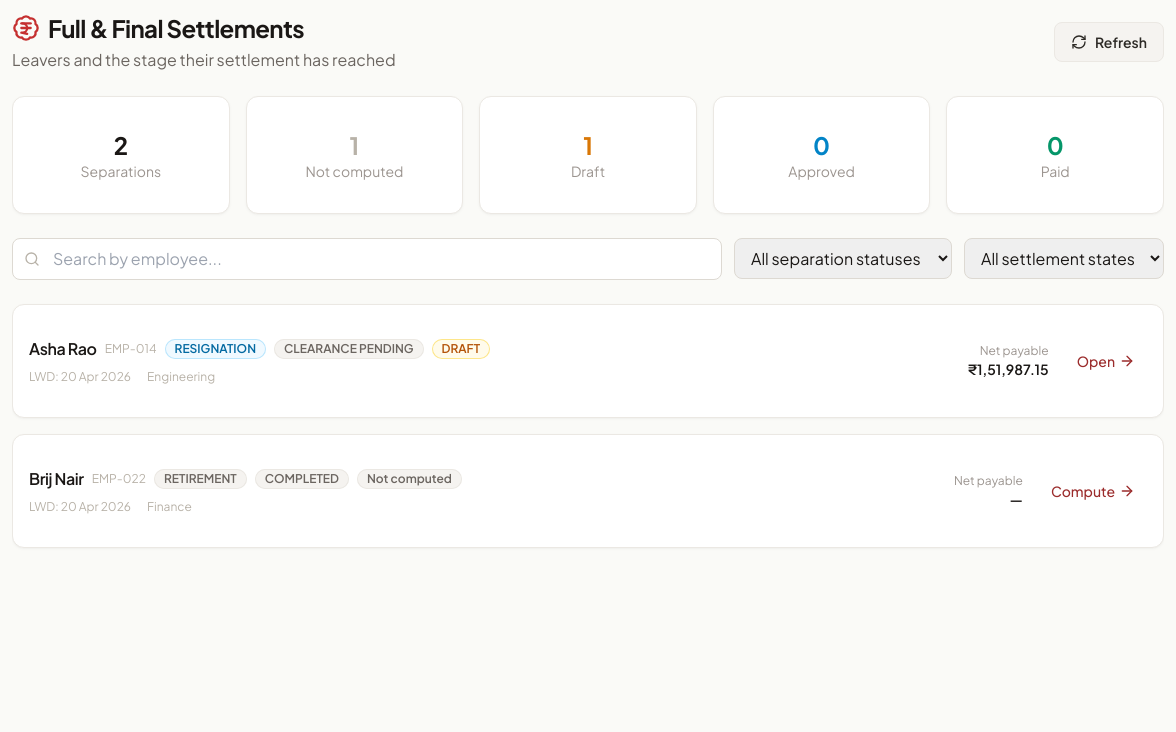
Test case: SettlementsPage › filters by settlement state
The width and height of the screenshot is (1176, 732).
Expected: the element with test id "settlement-row-sep-1" is shown, [29,337,1147,385]
Select "Not computed" in the 2nd dropdown named "settlement state" at (1064, 258), box [964,238,1164,279]
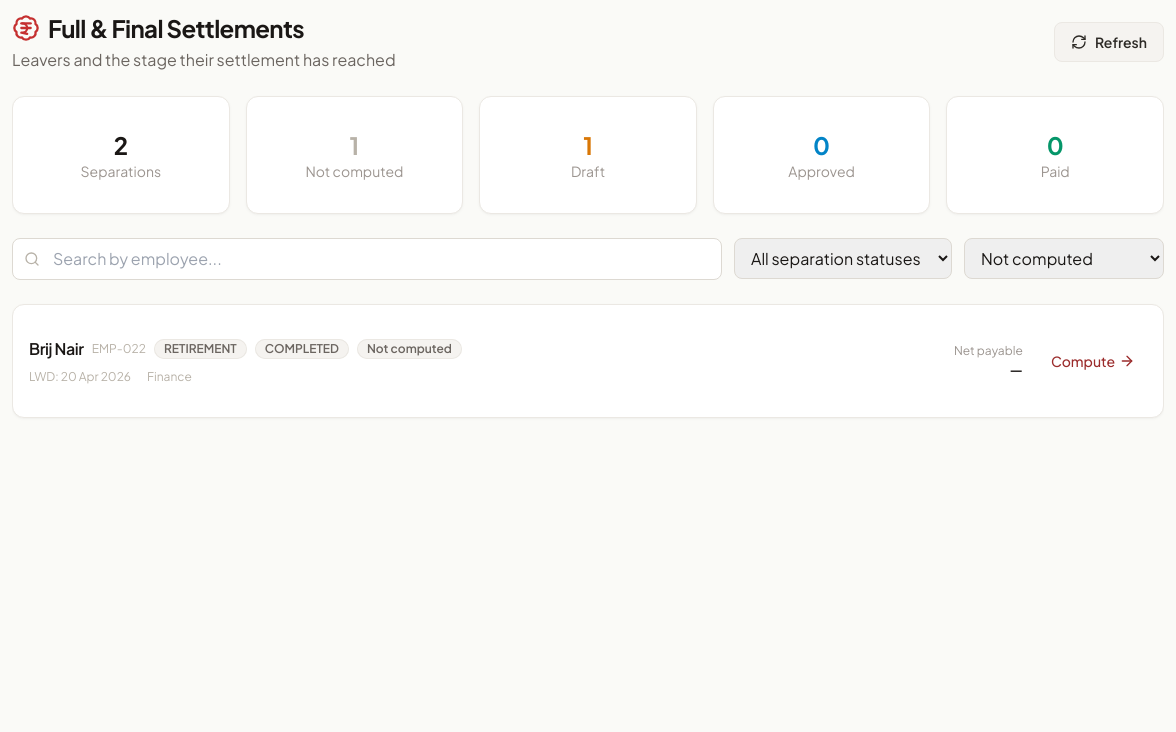
Expected: the element with test id "settlement-row-sep-2" is shown, [29,337,1147,385]
Expected: the element with test id "settlement-row-sep-1" is gone
